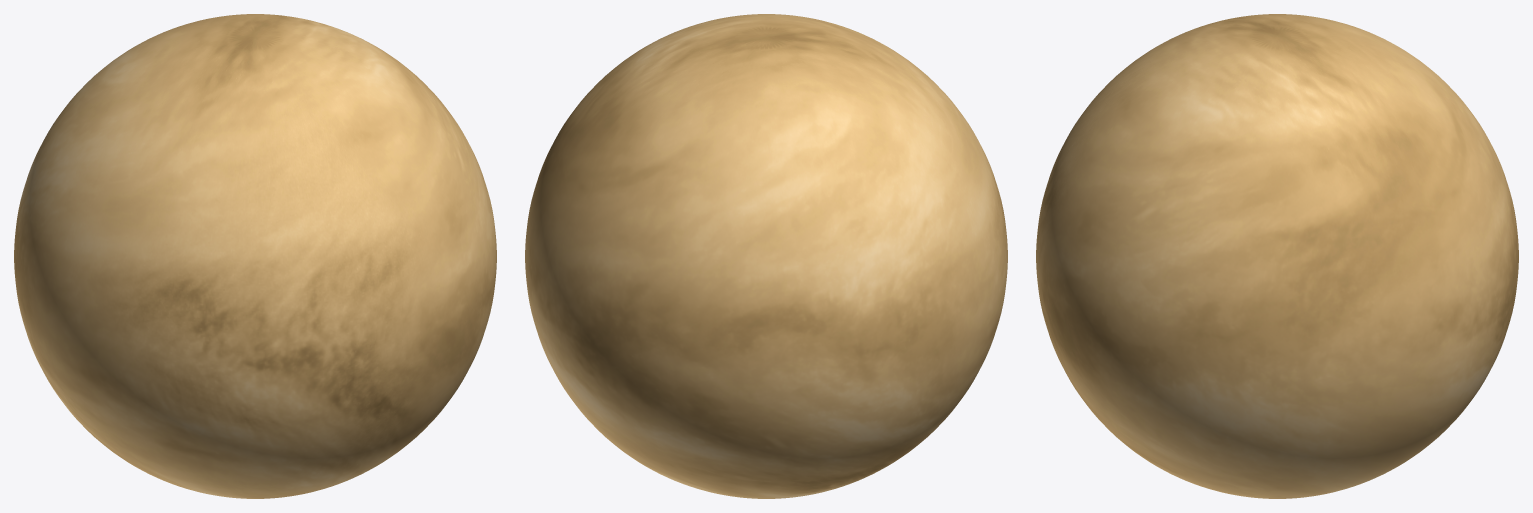
The model's file is venus.glb.
The picture shows the model from 3 angles, left to right: view 1: azimuth 30°, elevation 25°; view 2: azimuth 150°, elevation 25°; view 3: azimuth 270°, elevation 25°; orthographic projection.
Visible parts, largest first — view 1: Sphere_0; view 2: Sphere_0; view 3: Sphere_0.
Part boxes in pixels (bbox=[...]): Sphere_0: bbox=[14, 14, 496, 498]; Sphere_0: bbox=[525, 14, 1007, 498]; Sphere_0: bbox=[1036, 14, 1518, 498].
Size of the model in its own units: 1.99 by 2 by 1.99.
Materials: 1 (1 with a texture image).
